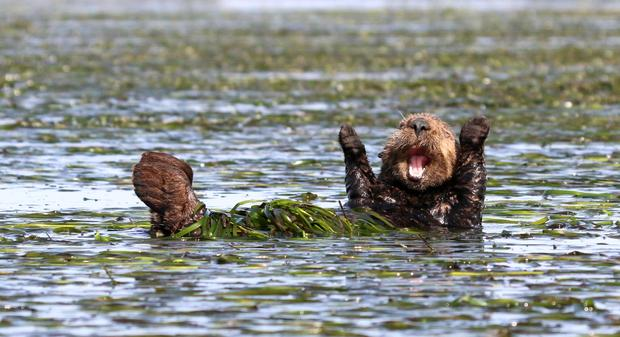otter: (129, 83, 520, 262)
